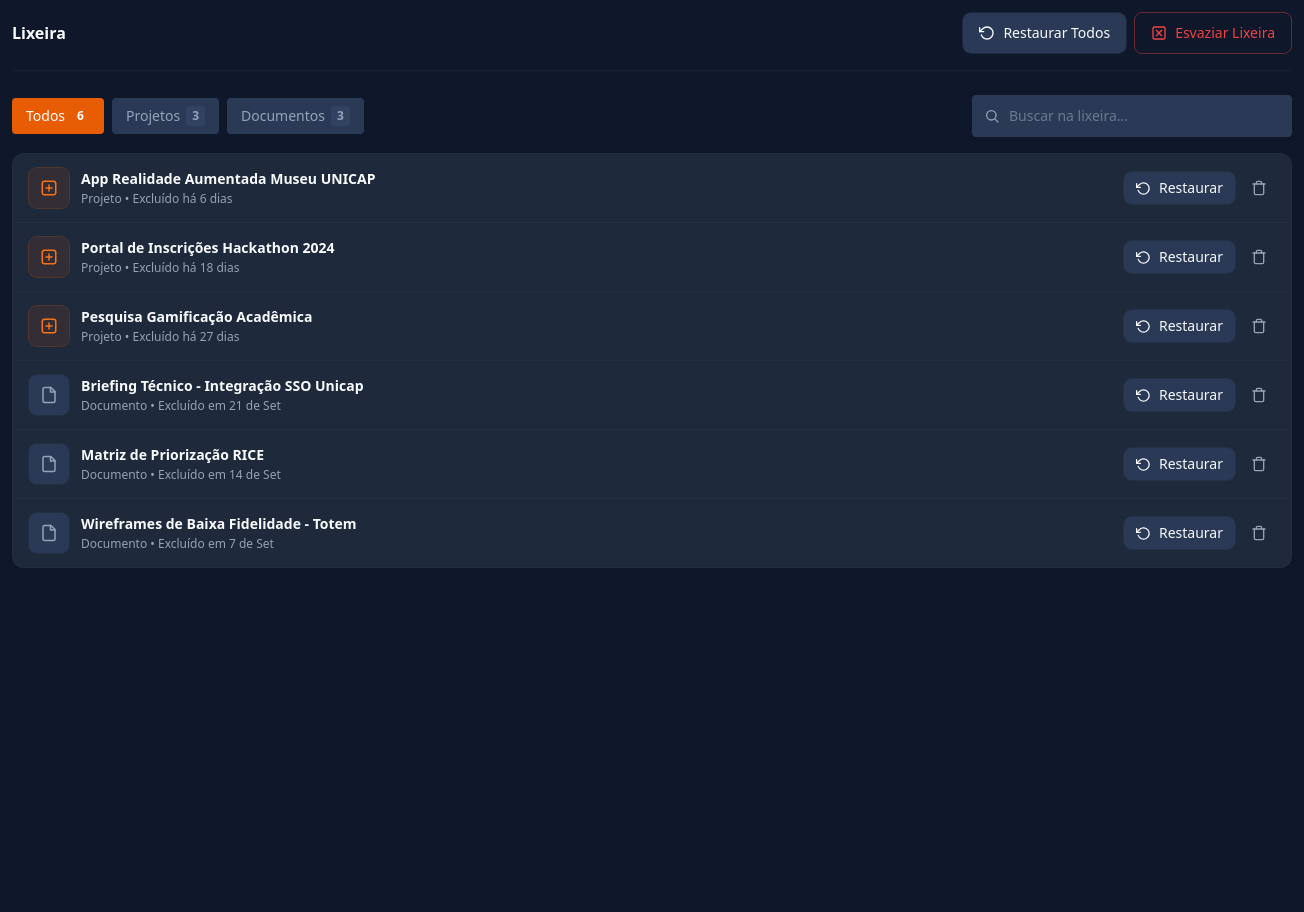
Test: Lixeira (janela) › restaura um item (remove da lixeira com toast)
Click the button "Restaurar" in the row of "App Realidade Aumentada Museu UNICAP": (1180, 188) left=1124, top=172, right=1235, bottom=204
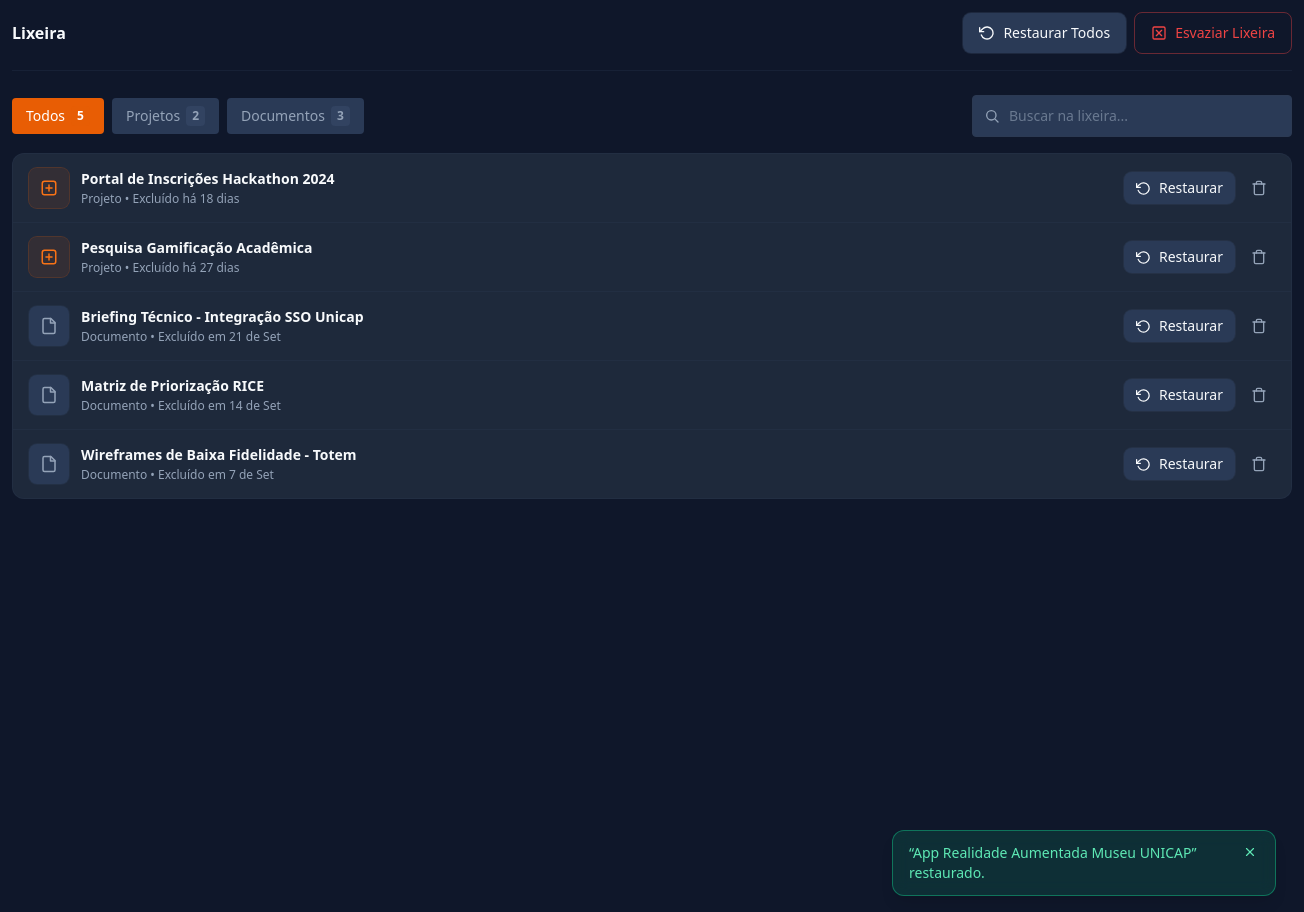
Now the number of list items is 5, box left=13, top=154, right=1291, bottom=223; left=13, top=223, right=1291, bottom=292; left=13, top=292, right=1291, bottom=361; left=13, top=361, right=1291, bottom=430; left=29, top=444, right=1275, bottom=484
Now the text "“App Realidade Aumentada Museu UNICAP” restaurado." is shown, box left=909, top=843, right=1229, bottom=883
